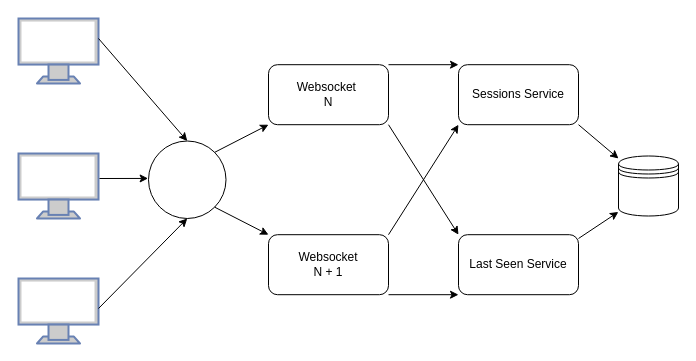
This 696x361 diagram has some shape labels left out. The box of each missing label's shape, as (x1, y1, x2, y2) in pixels:
Load Balancer: (148, 140, 226, 218)
Redis: (618, 155, 678, 216)
